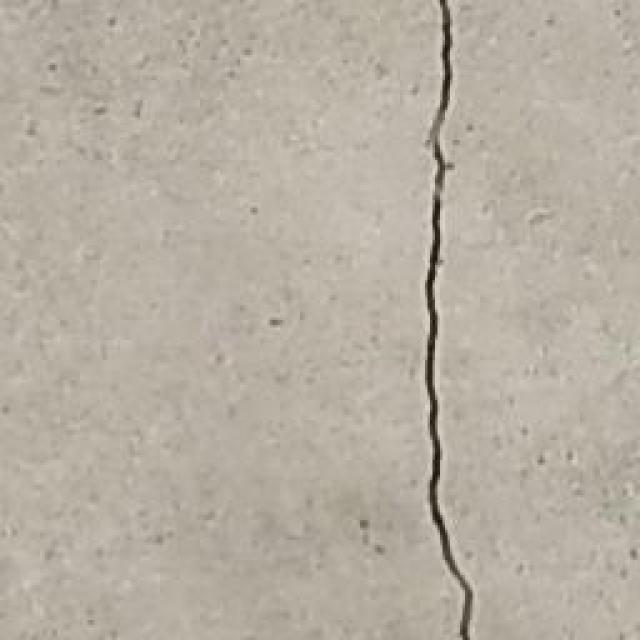concrete-crack: (422, 0, 475, 640)
